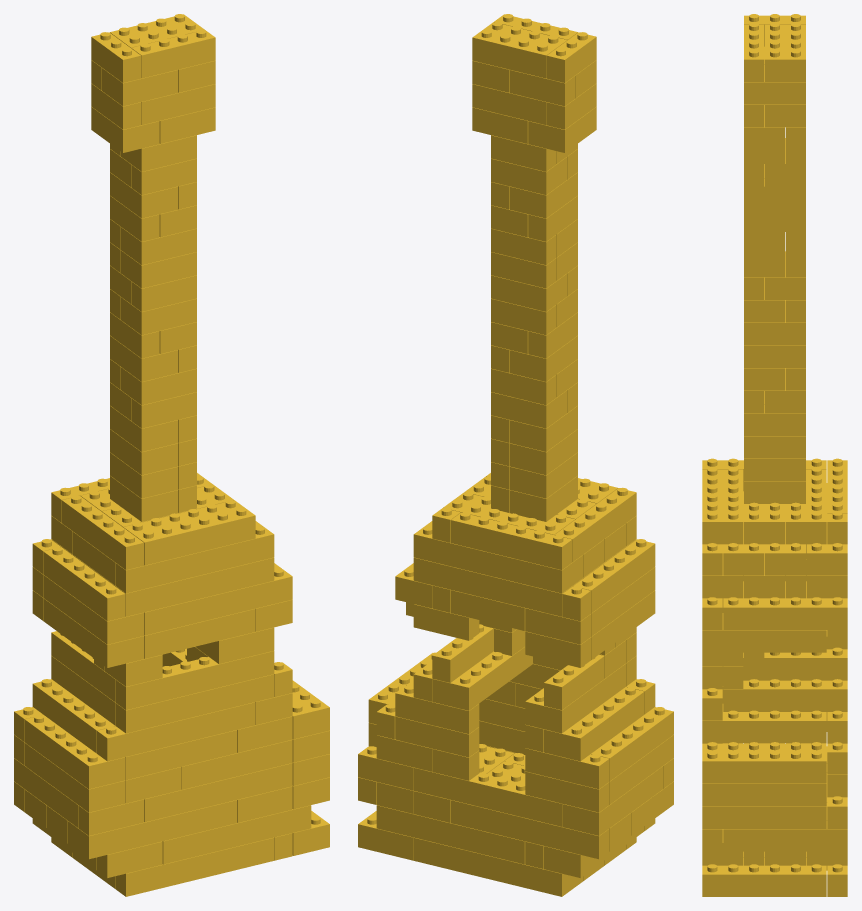
3 renders of one model, left to right at view 1: azimuth 30°, elevation 25°; view 2: azimuth 150°, elevation 25°; view 3: azimuth 270°, elevation 25°, orthographic. The views are drawn at different scales.
Parts seen in each view (by area): view 1: guitar_L1_P2_G; view 2: guitar_L1_P2_G; view 3: guitar_L1_P2_G.
Part boxes in pixels (left/top/right/bottom): guitar_L1_P2_G: left=14, top=14, right=329, bottom=896; guitar_L1_P2_G: left=358, top=14, right=673, bottom=896; guitar_L1_P2_G: left=702, top=14, right=847, bottom=896.
Size of the model in its own units: 12.97 by 42.19 by 6.97.
